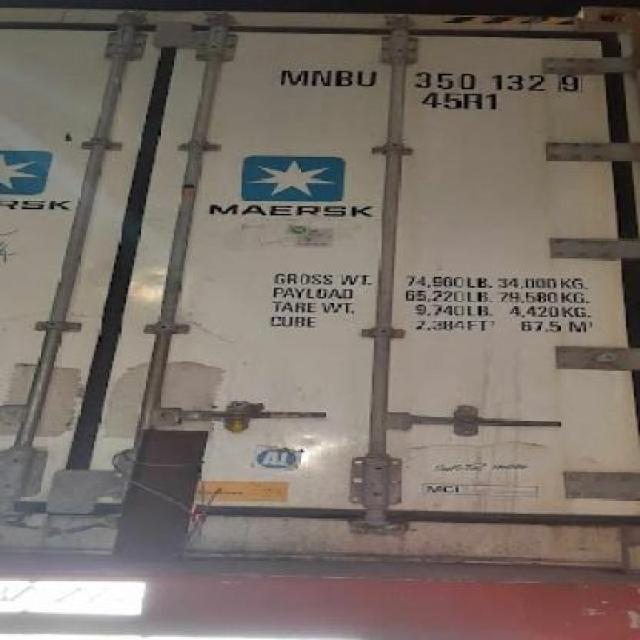ISO: (419, 88, 502, 114)
container_number: (272, 64, 590, 94)
